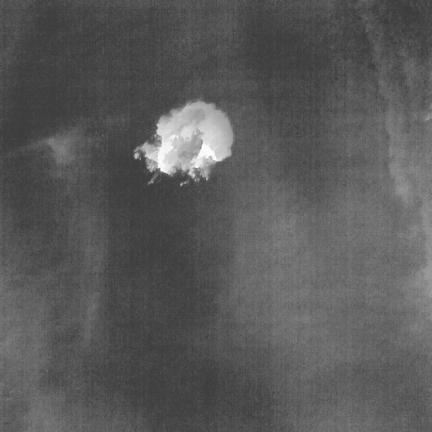flukeprints: (134, 100, 233, 180)
